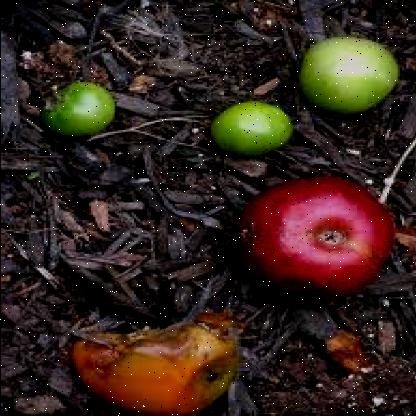apple: (304, 34, 390, 108), (208, 96, 292, 158), (43, 77, 116, 133)
damaged_apple: (236, 174, 386, 308), (73, 310, 238, 408)
